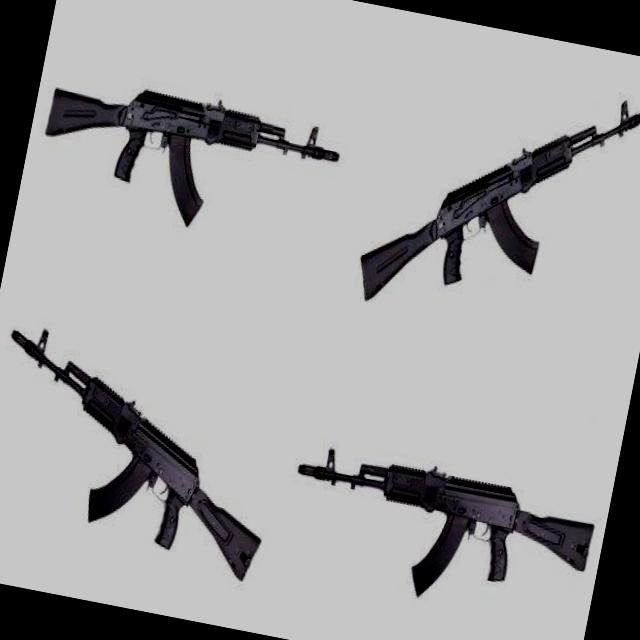long weapon: (352, 59, 639, 364), (0, 323, 302, 584), (31, 46, 383, 236), (276, 426, 607, 624)
